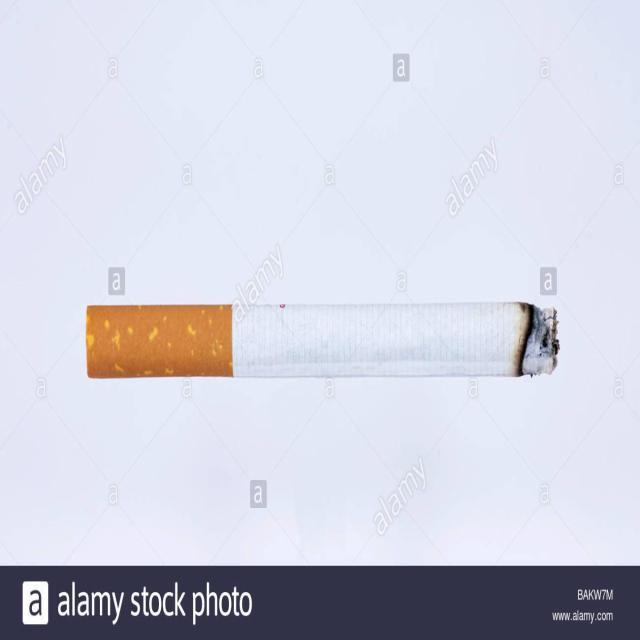cigarette: (87, 304, 558, 378)
